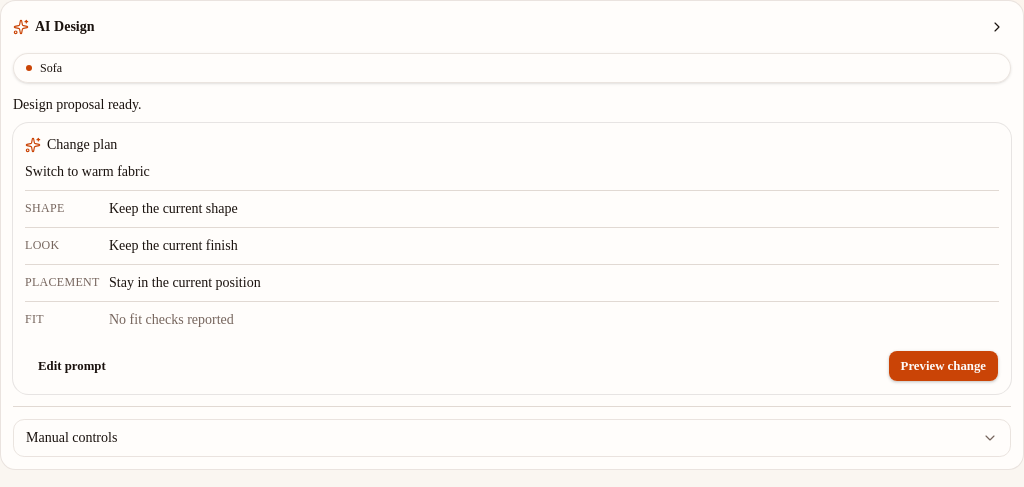
Test case: AIDesignStudio › shows ConceptActions with Use Design/Regenerate/Cancel once an attempt is concept_ready
Click the button "Preview change" at x=943, y=366, box [888, 350, 999, 382]
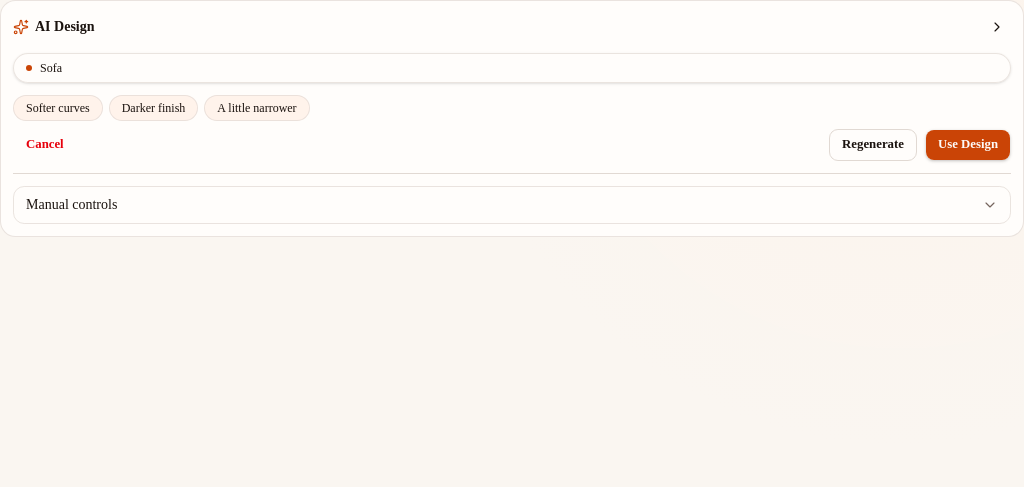
Now the button "Use Design" is shown, box [925, 129, 1011, 161]
Now the button "Regenerate" is shown, box [829, 129, 917, 161]
Now the button "Cancel" is shown, box [13, 129, 77, 161]
